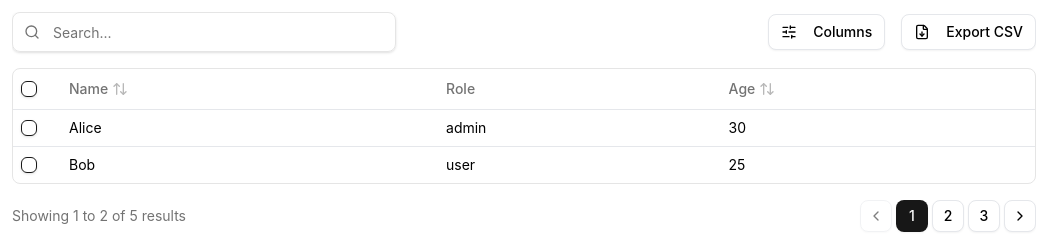
it: DataTable › Pagination › navigates to next page
// The last button in the document is the Next button (after page number buttons)
Step 1. Click the 7th button → (1020, 216), box [1004,200,1036,232]
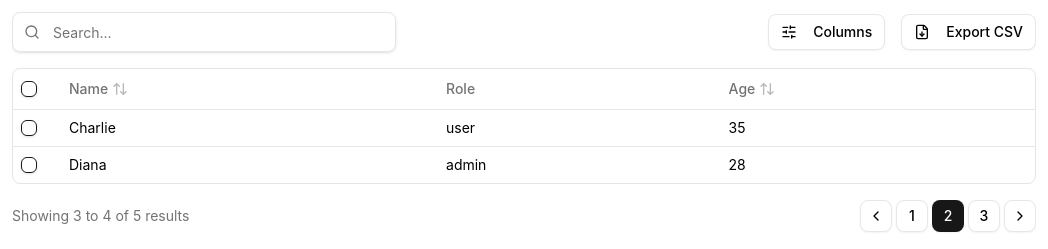
expect the text "Charlie" is shown: met, box [61,109,438,146]
